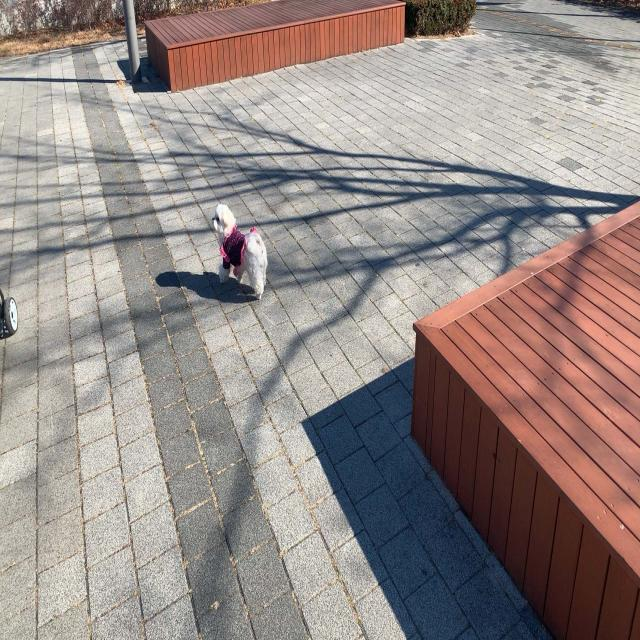Dog: (211, 202, 268, 300)
